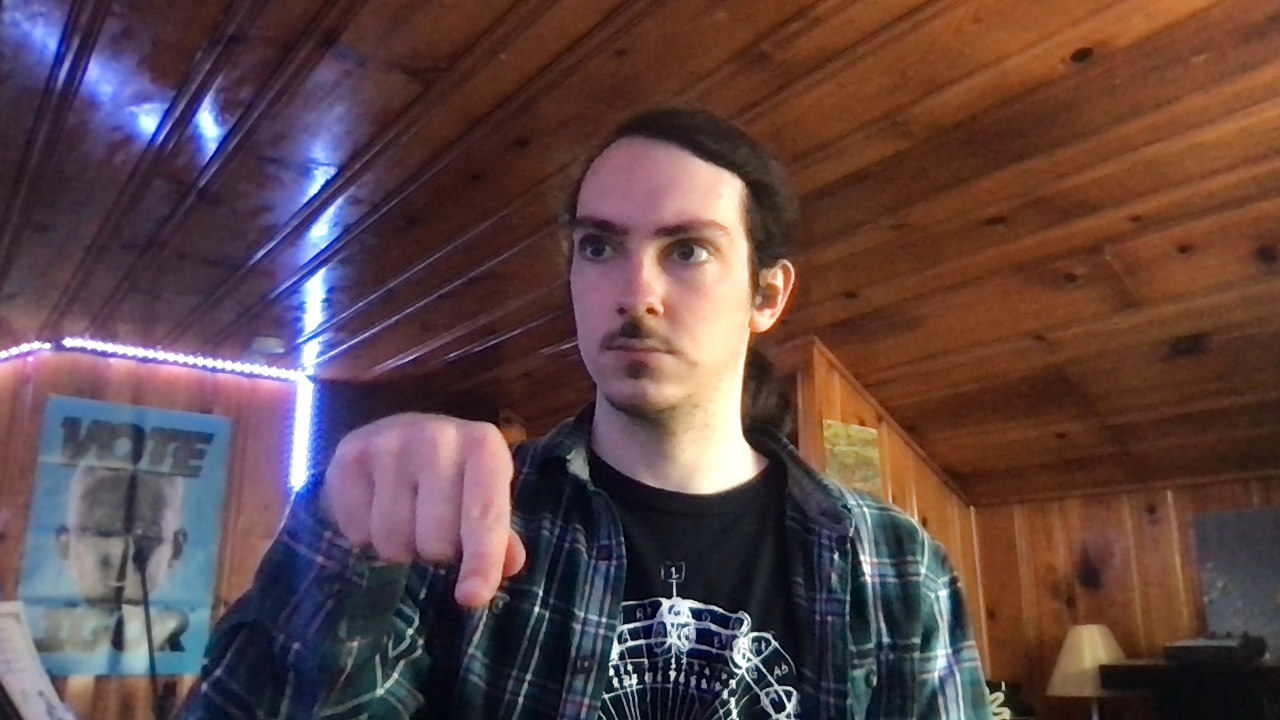q: (321, 410, 529, 612)
